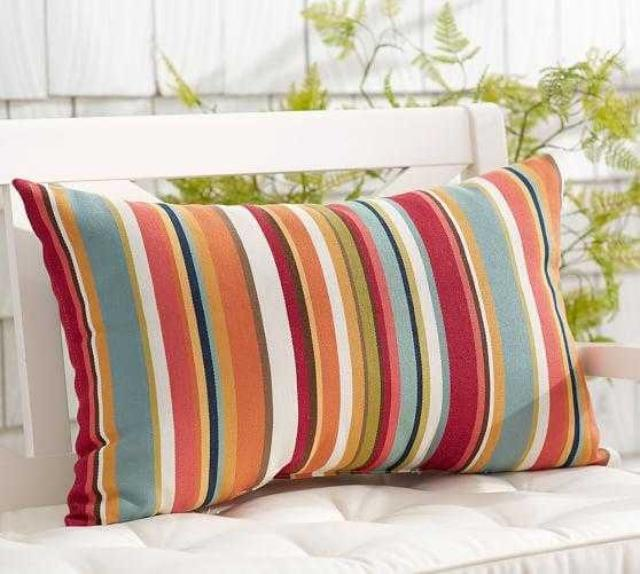pillow: (11, 151, 620, 527)
